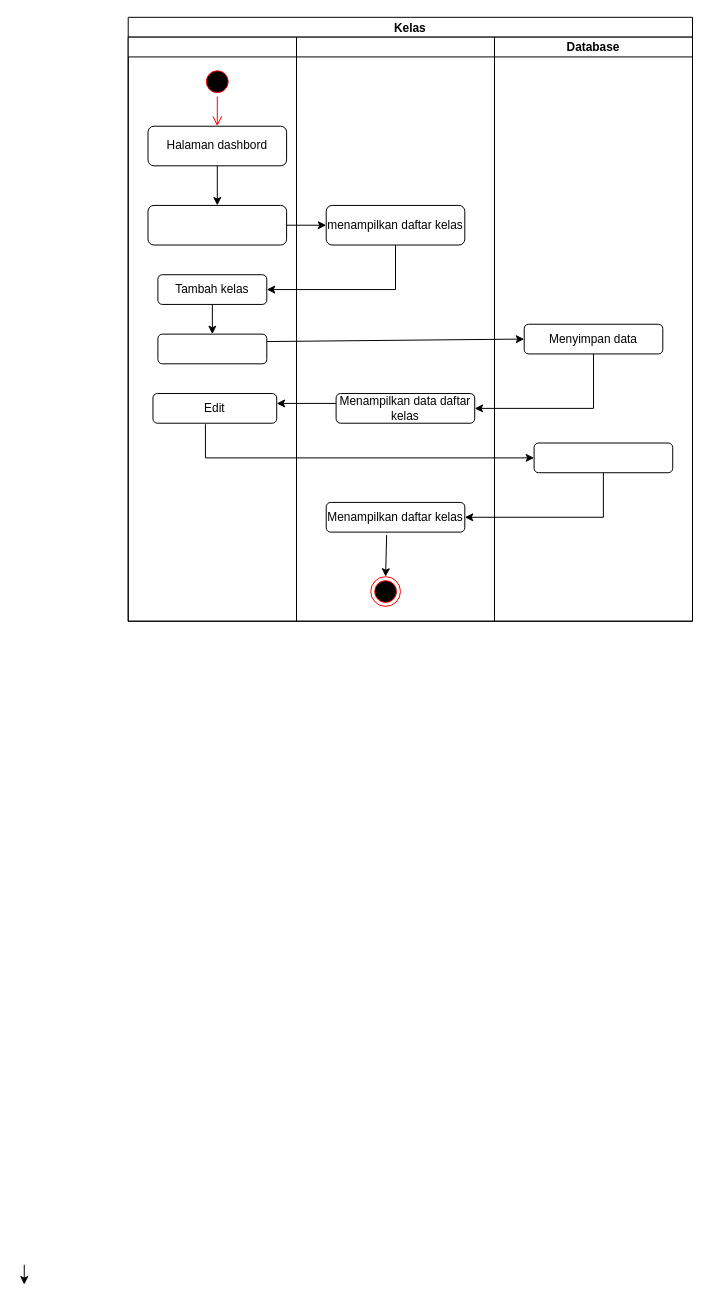
The diagram is 710 pixels wide and 1310 high, and some of its shapes have lost their labels. The shapes that lost their labels are listed below. From the top down, each one's box as (x1, y1, x2, y2) in pixels, then its label:
(147, 204, 287, 245): Memilih menu kelas
(127, 36, 297, 621): Staff
(157, 333, 267, 364): Upload
(296, 36, 495, 621): Sistem
(533, 442, 673, 473): Edit kelas
